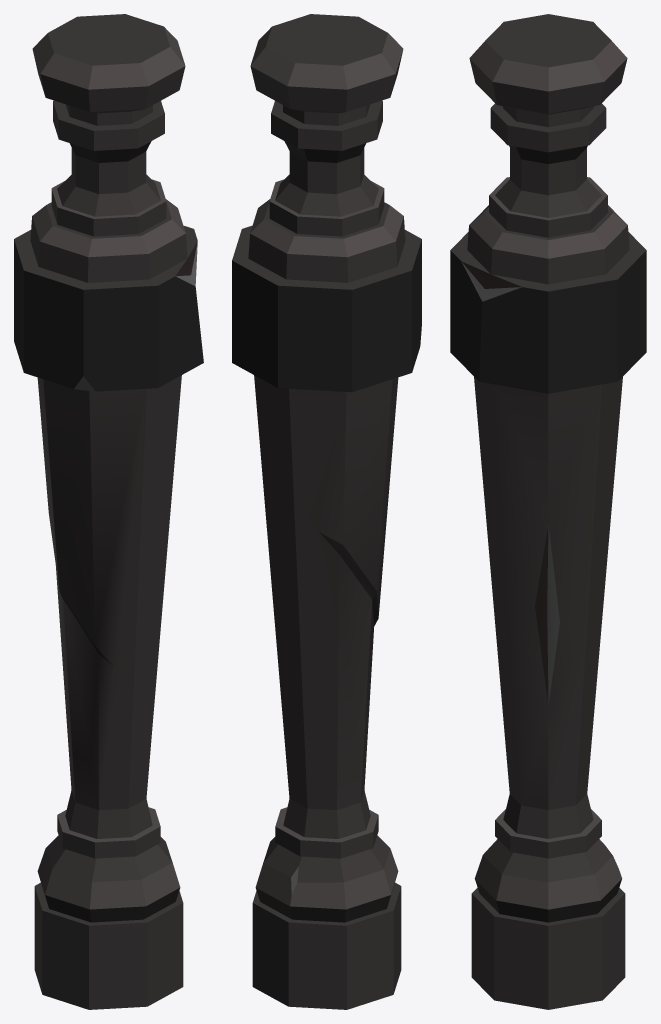
File: Pillar_Cylinder_02.glb
3 views of the same model, side by side, from view 1: azimuth 30°, elevation 25°; view 2: azimuth 150°, elevation 25°; view 3: azimuth 270°, elevation 25° (orthographic).
Visible parts, largest first — view 1: Pillar_Cylinder_02; view 2: Pillar_Cylinder_02; view 3: Pillar_Cylinder_02.
Boxes of the visible parts, left/top/right/bottom form: Pillar_Cylinder_02: left=14, top=14, right=203, bottom=1009; Pillar_Cylinder_02: left=232, top=14, right=421, bottom=1009; Pillar_Cylinder_02: left=450, top=14, right=646, bottom=1009.
Size of what is drawn, in the model's own units: 0.7598 by 4 by 0.7598.
1 material, 1 textured.
